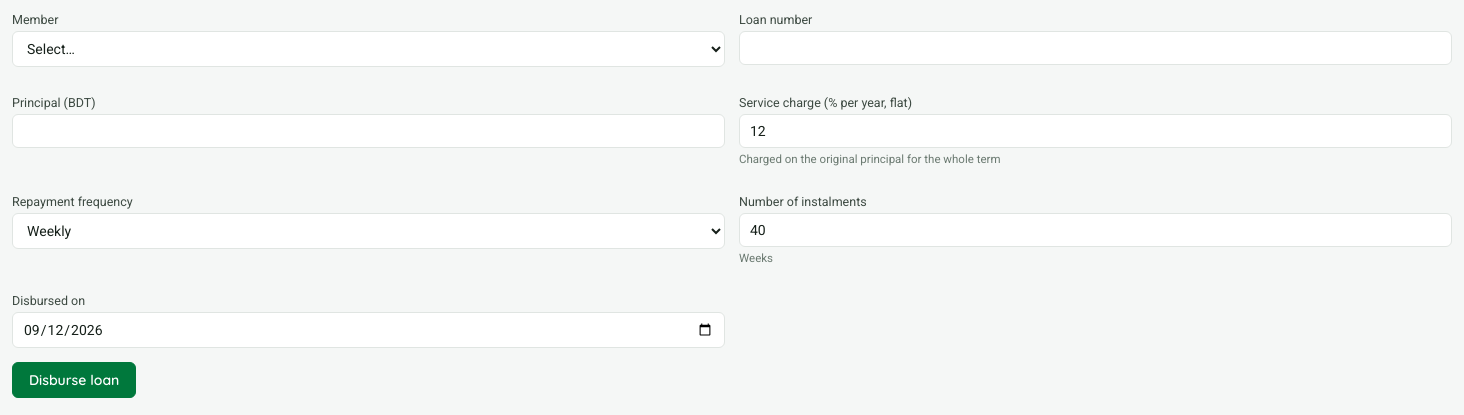
Scenario: DisburseLoanForm › describes the term in the unit the chosen frequency actually uses
The width and height of the screenshot is (1464, 415).
expect the dropdown labelled "Member" is shown: met, box [12,31,725,67]
expect the text "Weeks" is shown: met, box [739,251,773,265]
Select "Monthly" in the dropdown labelled "Repayment frequency" at (368, 231), box [12,213,725,249]
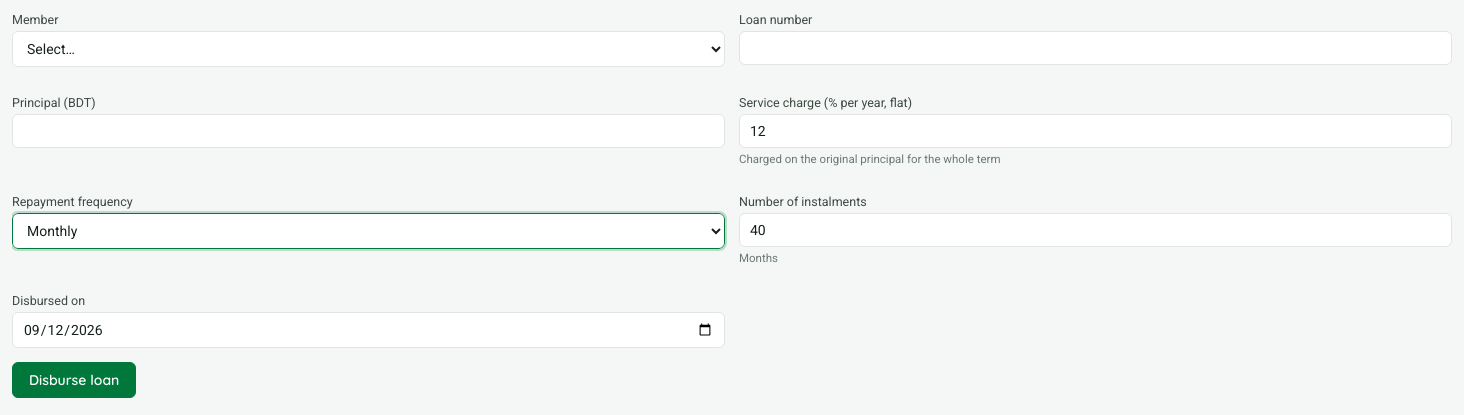
expect the text "Months" is shown: met, box [739,251,778,265]
